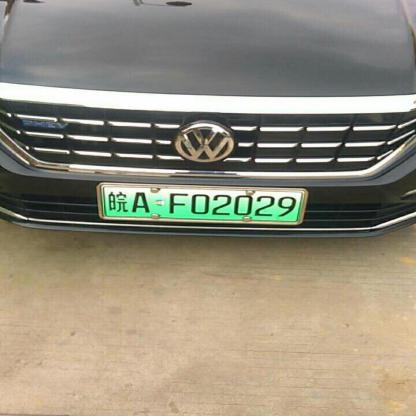lp: (101, 186, 303, 222)
